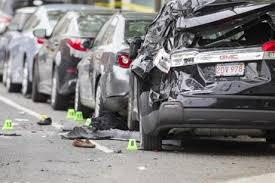boot-dent: (169, 53, 274, 101)
